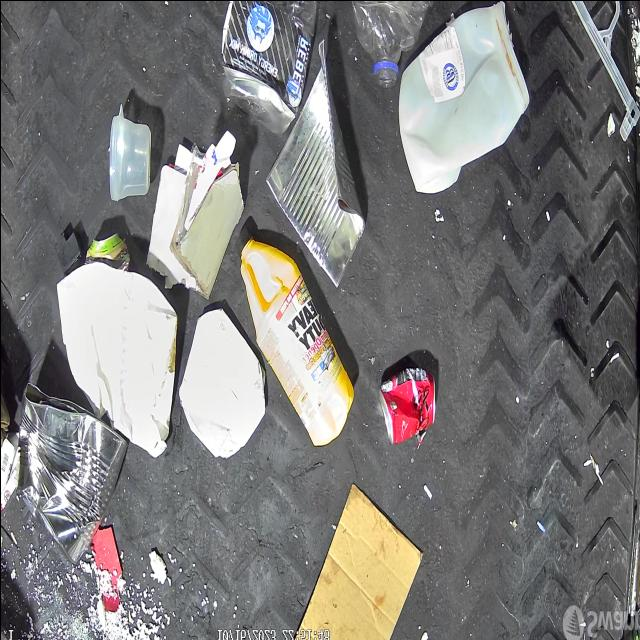can: (8, 377, 122, 563), (378, 366, 435, 446), (88, 233, 129, 267)
milk_jug: (396, 0, 528, 192)
non_white_jug: (233, 227, 349, 449)
plastic_bottle: (220, 0, 317, 136), (350, 0, 436, 86)
